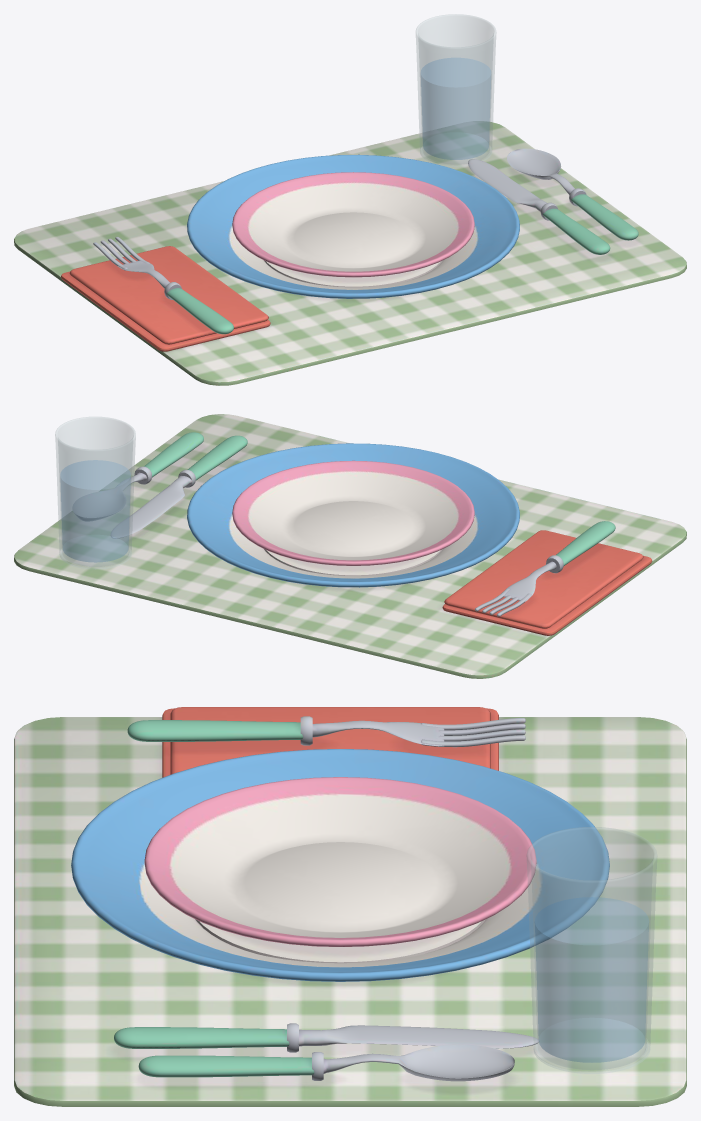
The model's file is table-setting.glb.
3 views of the same model, one above another, from view 1: azimuth 30°, elevation 25°; view 2: azimuth 150°, elevation 25°; view 3: azimuth 270°, elevation 25° (orthographic). The views are drawn at different scales.
Parts seen in each view (by area): view 1: table-setting_body, table-setting_water_glass, table-setting_water_liquid; view 2: table-setting_body, table-setting_water_glass, table-setting_water_liquid; view 3: table-setting_body, table-setting_water_glass, table-setting_water_liquid.
Boxes of the visible parts, x1,y1,x2,y2 form: table-setting_body: (14,121,686,385); table-setting_water_glass: (416,14,496,166); table-setting_water_liquid: (421,58,490,159); table-setting_body: (14,414,686,678); table-setting_water_glass: (55,417,135,569); table-setting_water_liquid: (60,460,130,562); table-setting_body: (14,707,686,1106); table-setting_water_glass: (526,827,657,1073); table-setting_water_liquid: (535,897,648,1062).
Size of the model in its own units: 0.4625 by 0.1131 by 0.34.
Materials: 3 (1 with a texture image).
